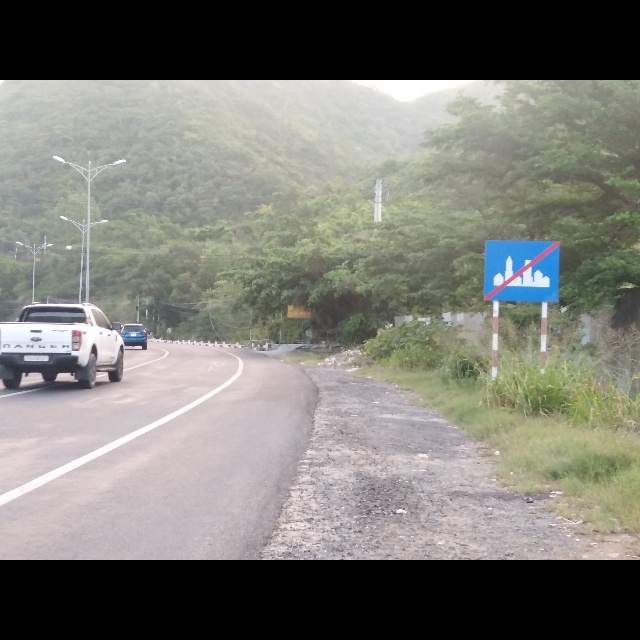Hết khu đông dân cư: (483, 236, 562, 304)
